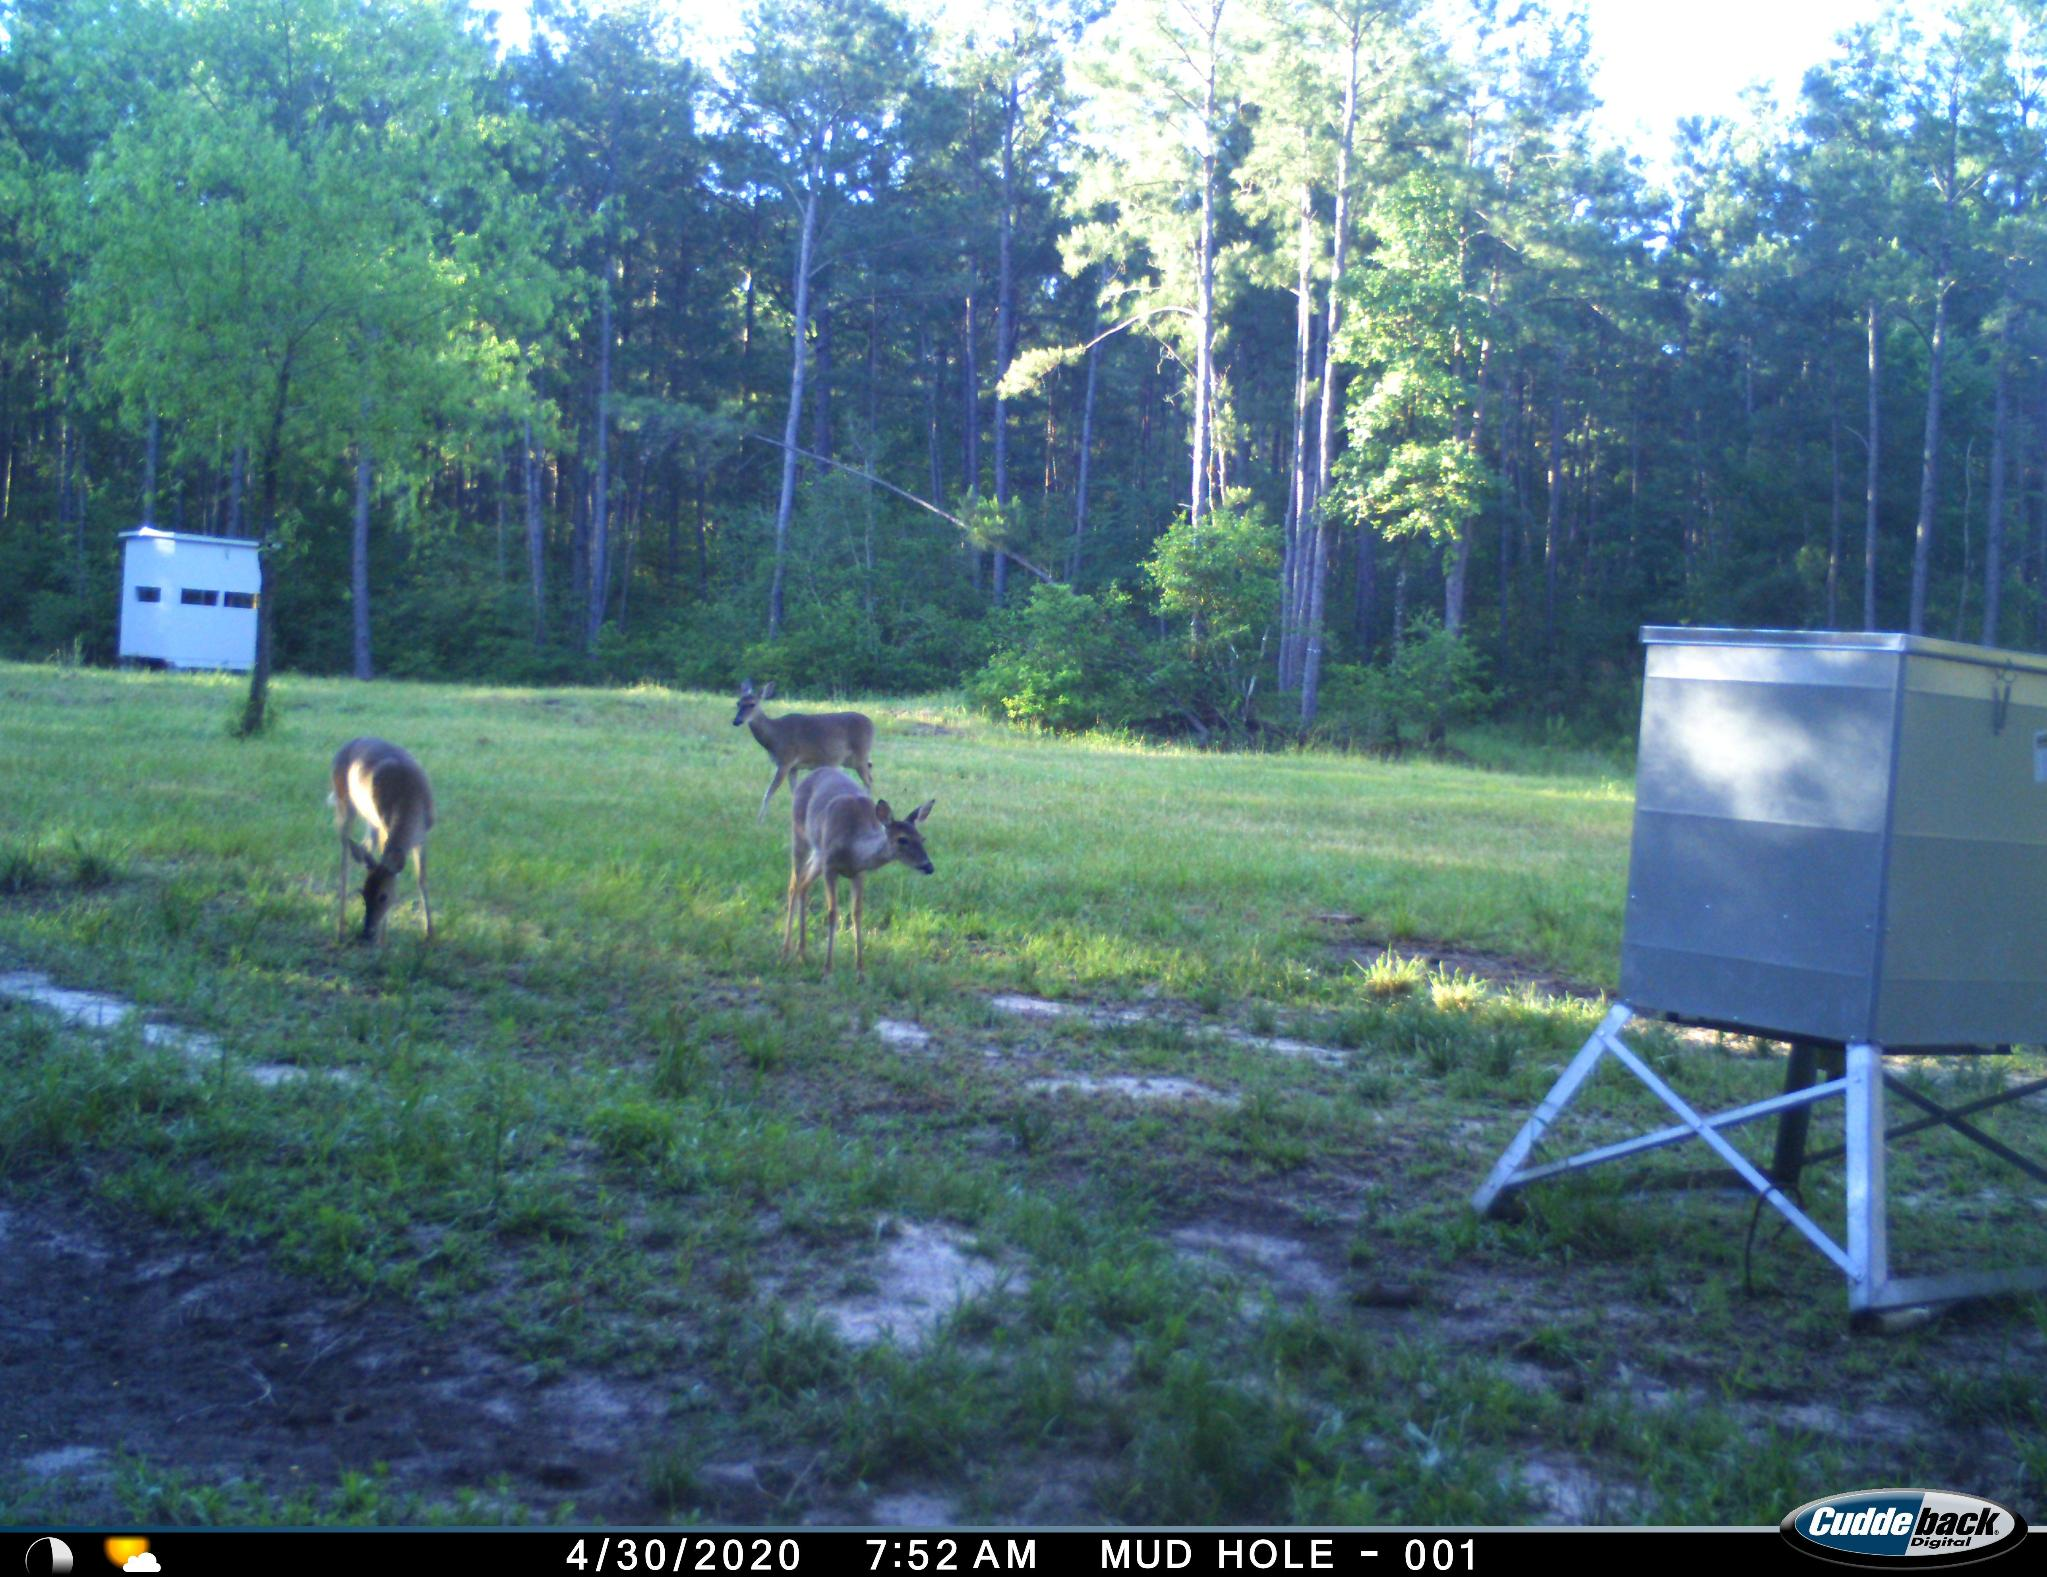Deer: (782, 760, 941, 989), (325, 726, 465, 971), (732, 679, 888, 815)
